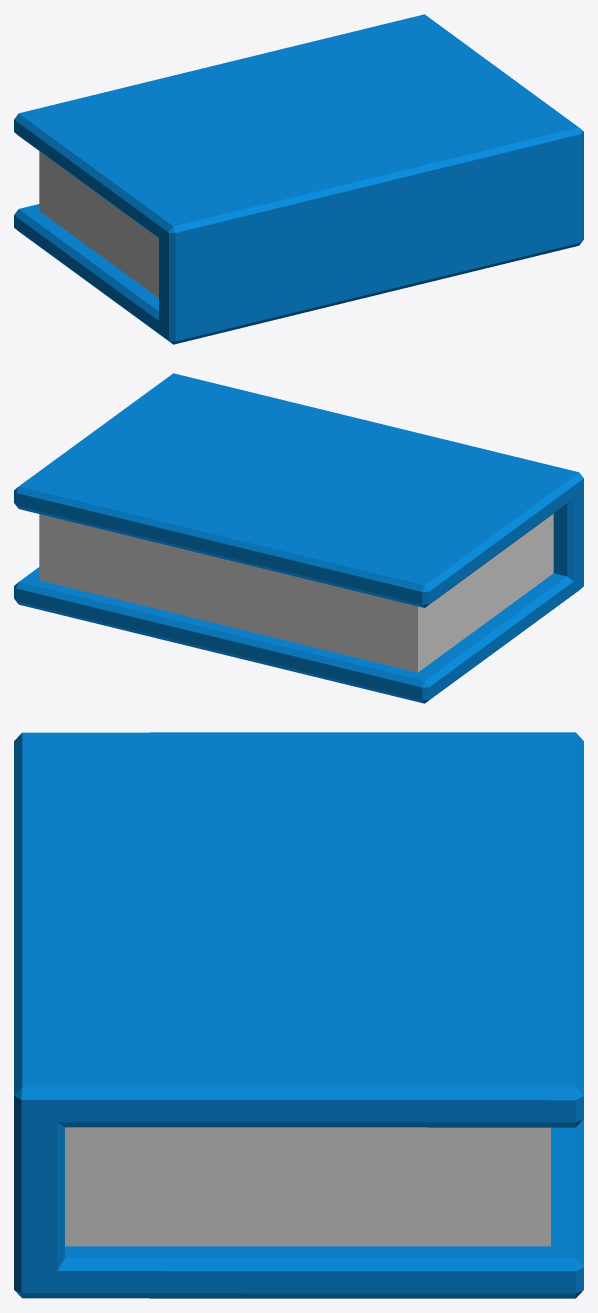
The model's file is blue_book.fbx.
The picture shows the model from 3 angles, top to bottom: view 1: azimuth 30°, elevation 25°; view 2: azimuth 150°, elevation 25°; view 3: azimuth 270°, elevation 25°; orthographic projection. The views are drawn at different scales.
Visible parts, largest first — view 1: Blue_book; view 2: Blue_book; view 3: Blue_book.
Part boxes in pixels (bbox=[...]): Blue_book: bbox=[14, 14, 583, 344]; Blue_book: bbox=[14, 373, 583, 703]; Blue_book: bbox=[14, 732, 583, 1298].
Bounding box in the file's own units: 0.8917 × 0.5921 × 0.2425.
